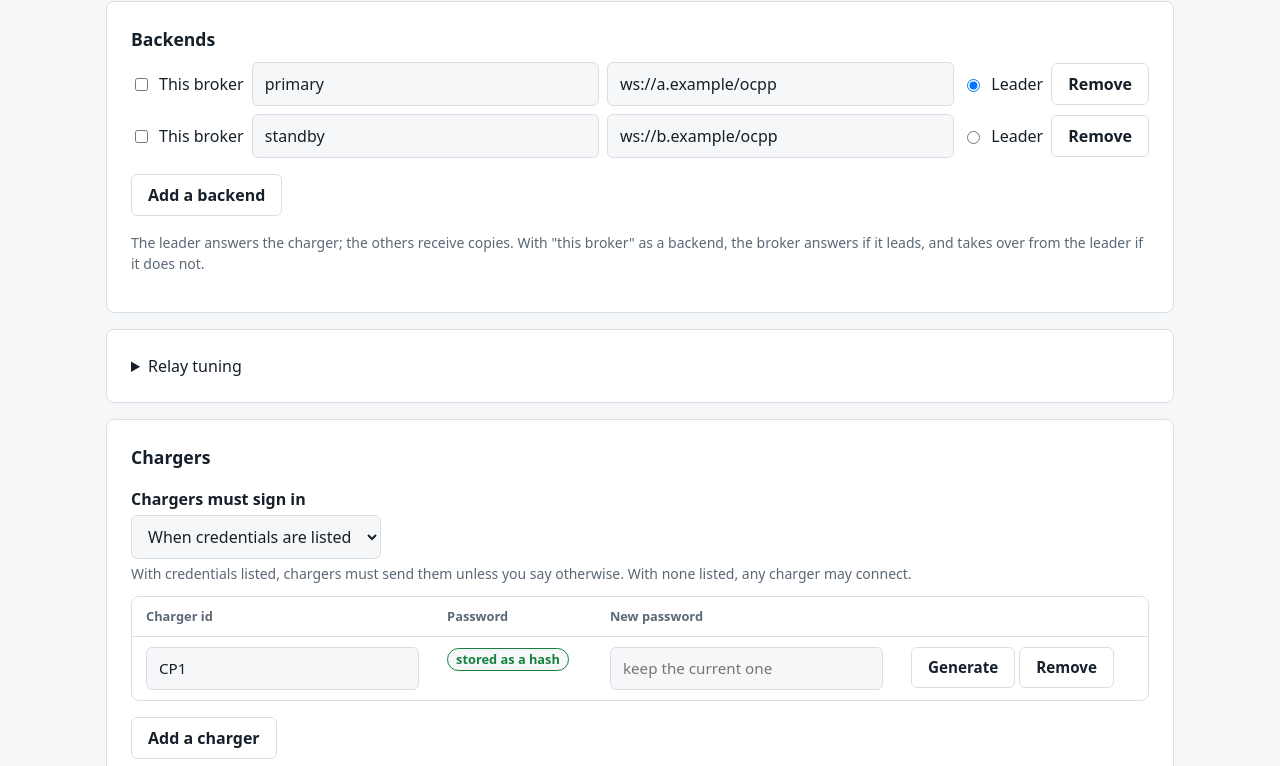
it: changing an organization › offers to reload when the file changed under the page, and loads it again
The image size is (1280, 766).
(page scrolled)
Type "50" into the field named "Held frames" at (640, 366), box [106, 329, 1174, 403]
(page scrolled)
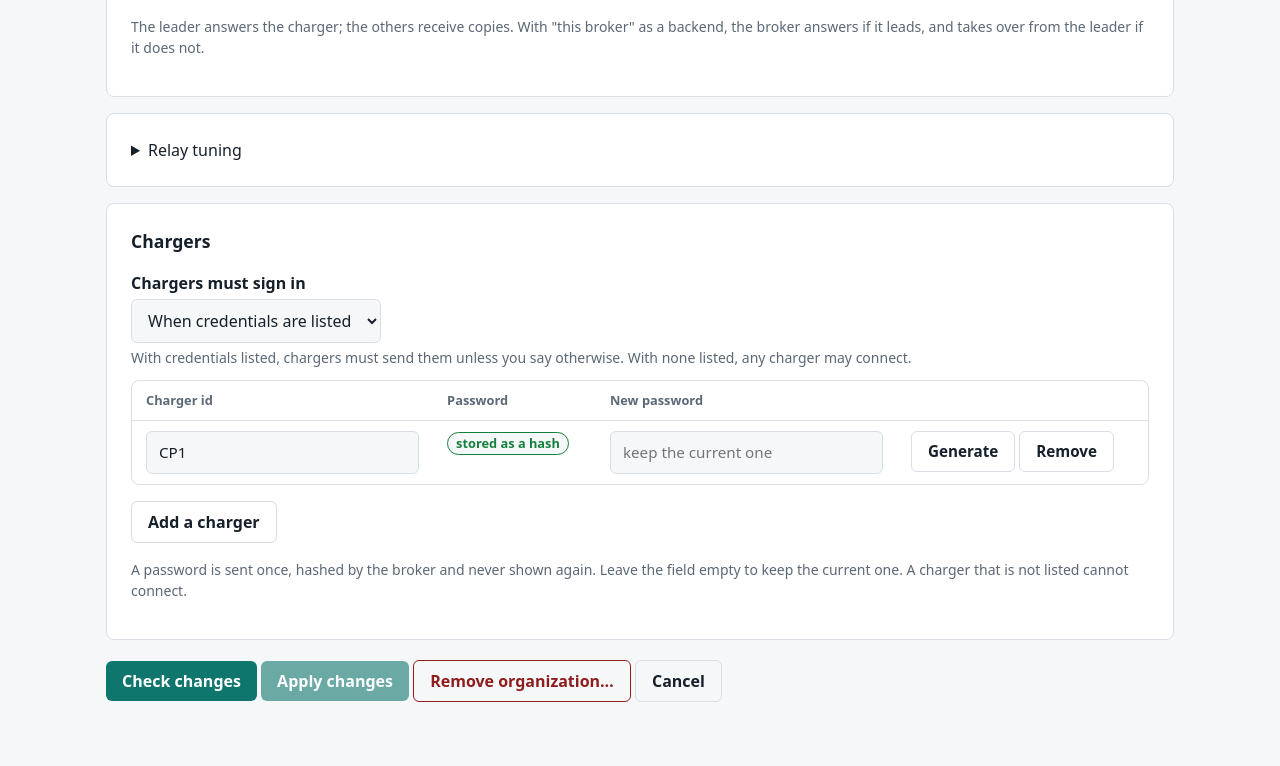
Click the button "Check changes" at (181, 681), box [106, 661, 257, 701]
(page scrolled)
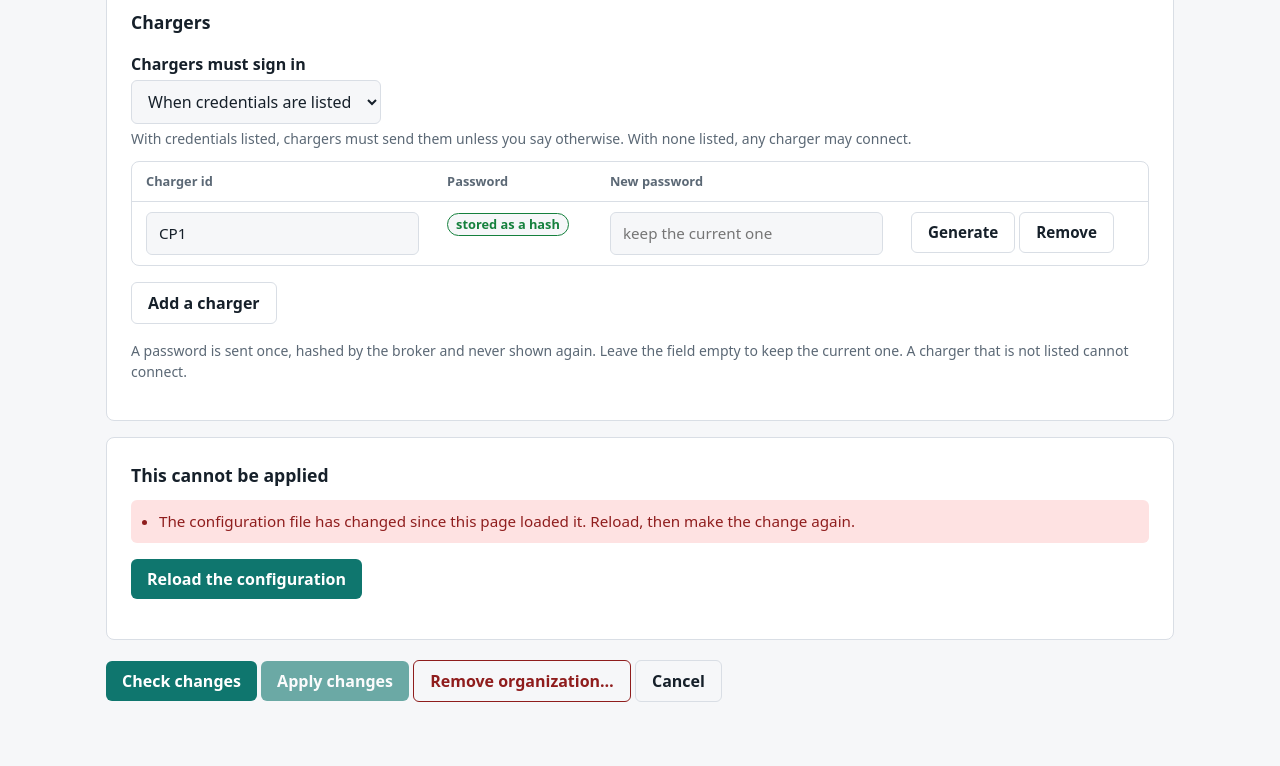
Click the button "Reload the configuration" at (246, 579), box [131, 559, 362, 599]
(page scrolled)
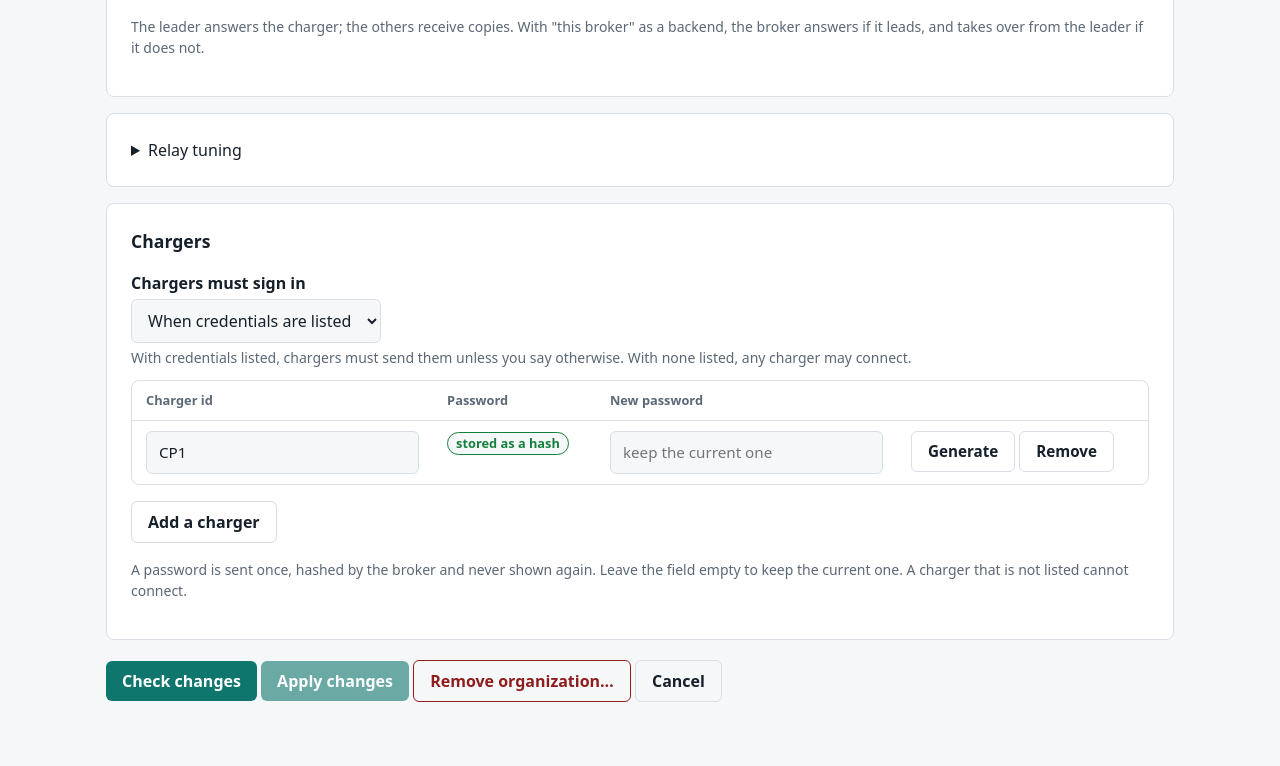
Check: the element named "Held frames" is empty, box [106, 113, 1174, 187]
Check: the heading "This cannot be applied" is gone
